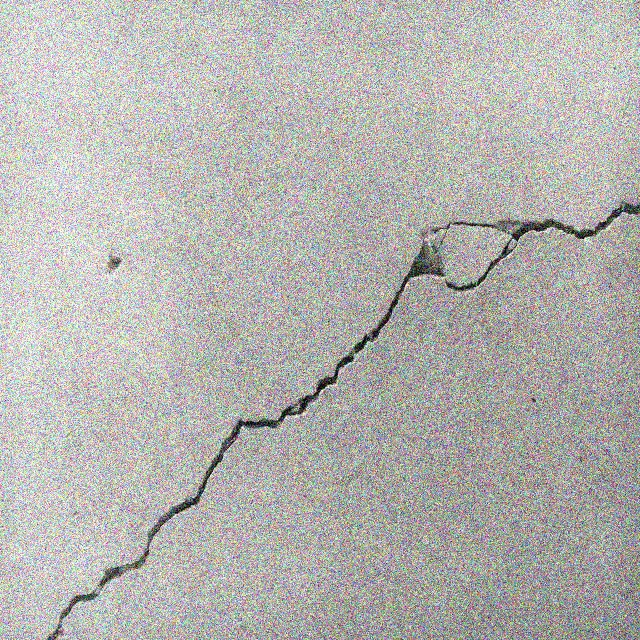SurfaceCrack: (4, 164, 640, 640)
